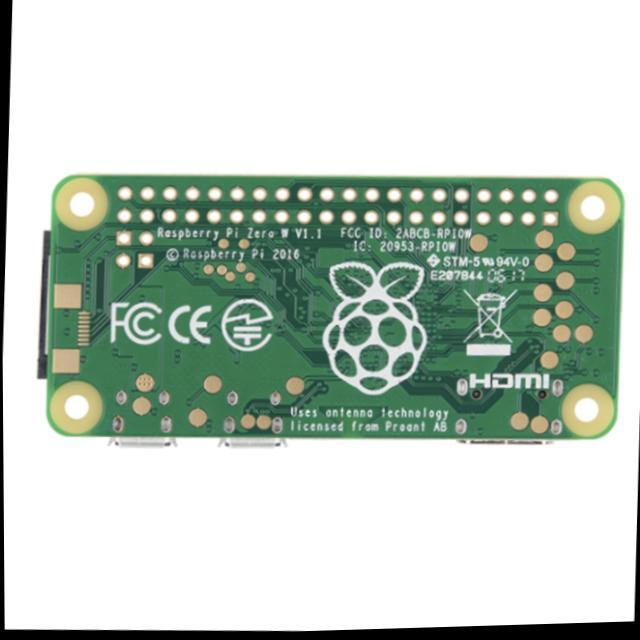Raspberry-Pi-Zero-W: (39, 176, 625, 447)
